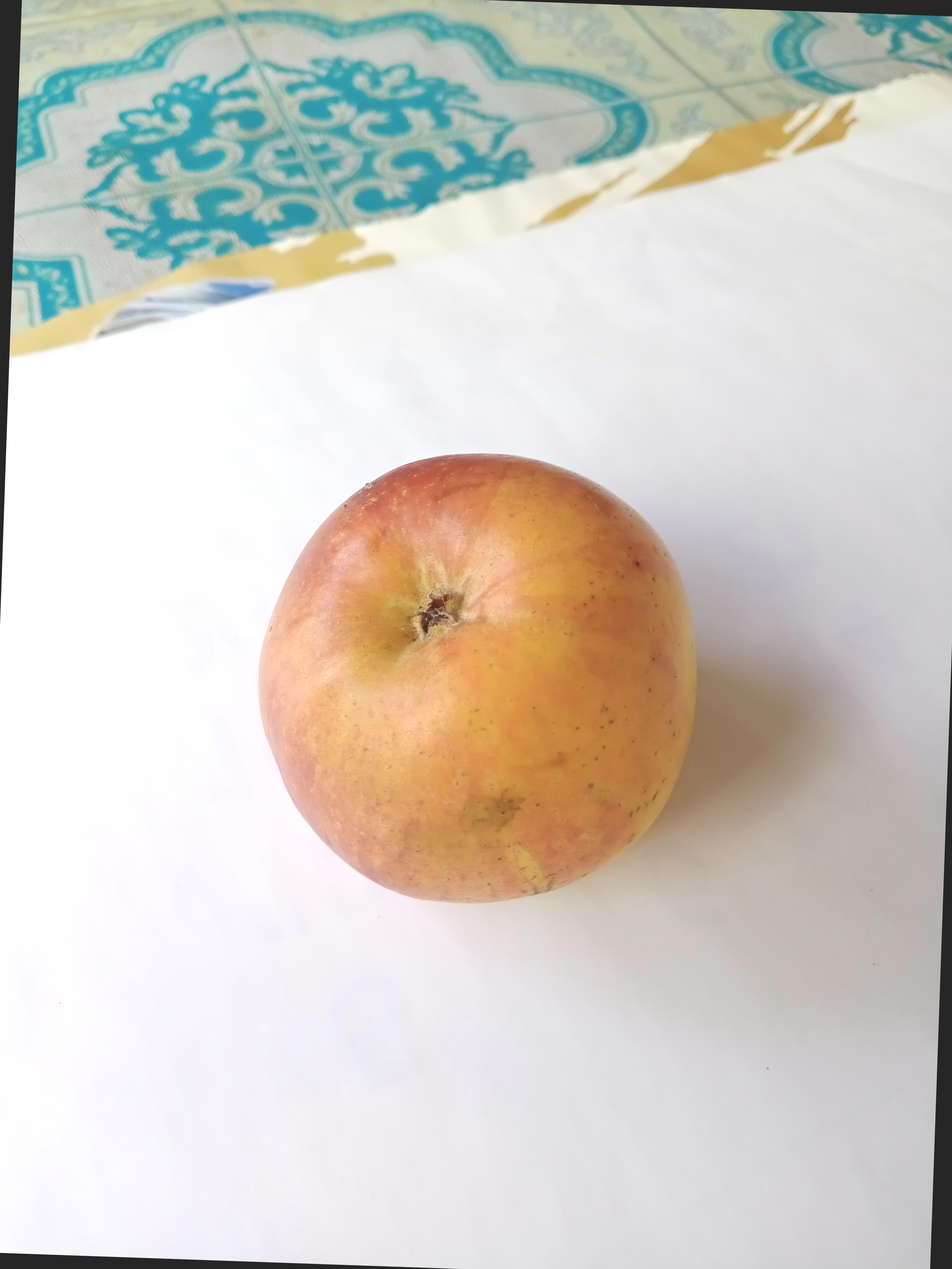Apple Ripe: (249, 398, 765, 927)
